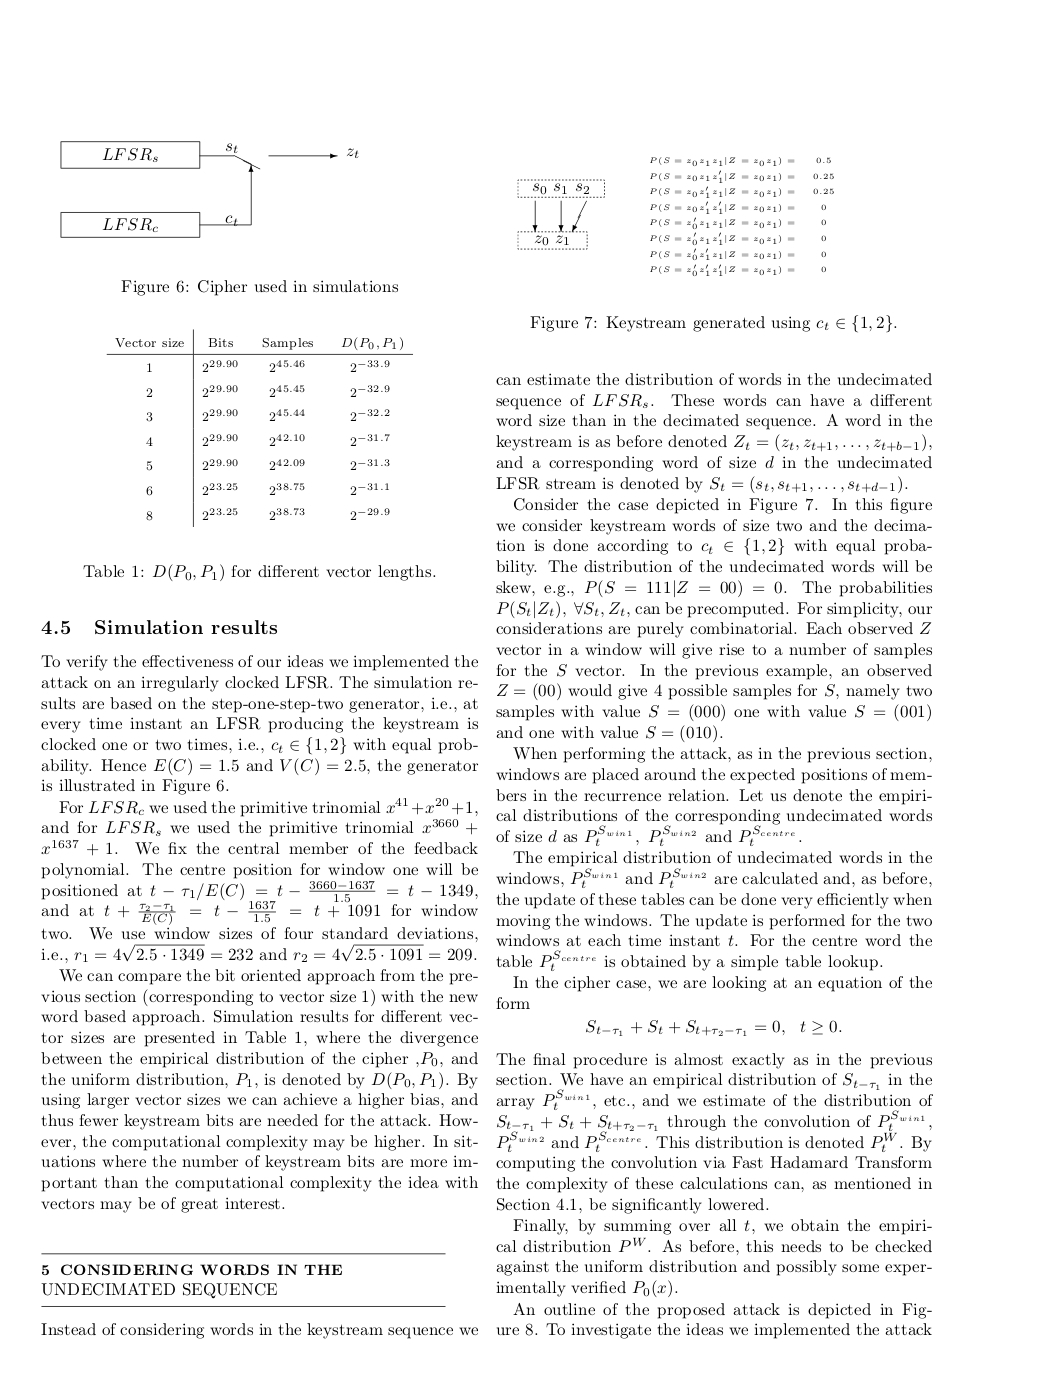Table: (106, 328, 412, 527)
figure: (517, 157, 833, 276), (60, 142, 358, 237)
formula: (586, 1019, 841, 1036)
